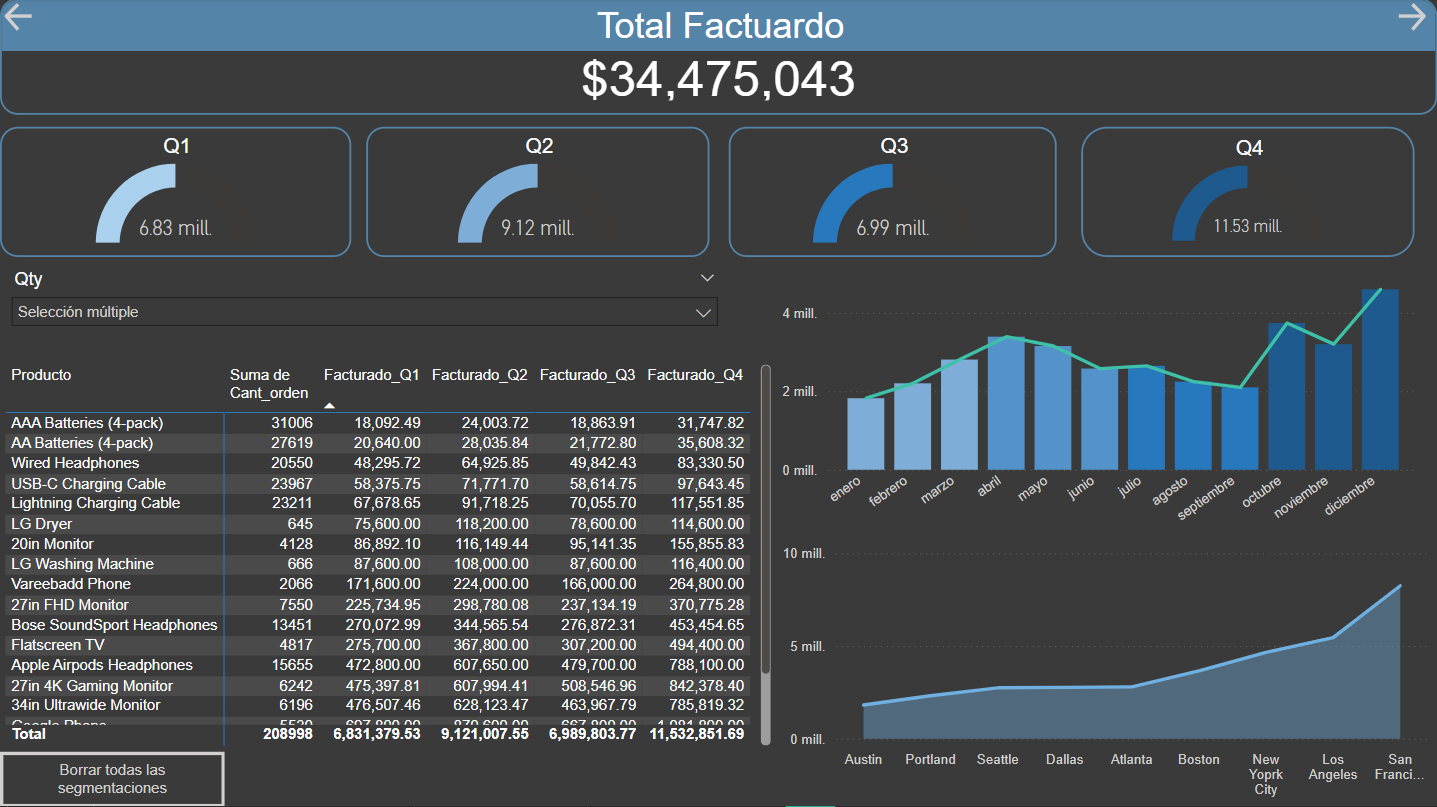

The dashboard page shown, as its layout file describes it:
{"tool":"powerbi","page":{"name":"Analisis_Facturacion","canvas":[1280,720],"ordinal":2},"visuals":[{"type":"card","title":"Total Factuardo","fields":{"Values":["Medidas.Ventas_Totales"]},"box":[0,0,1280,103.8],"z":0},{"type":"lineStackedColumnComboChart","fields":{"Y2":["Medidas.Ventas_Totales"],"Category":["Tabla_Calendario.Mes (nombre)"],"Y":["Medidas.Facturado_Q1","Medidas.Facturado_Q2","Medidas.Facturado_Q3","Medidas.Facturado_Q4"]},"box":[691.3,231.6,576.7,255.8],"z":1000},{"type":"gauge","title":"Q1","fields":{"Y":["Medidas.Facturado_Q1"]},"box":[0,114.6,312.5,115.8],"z":2000},{"type":"gauge","title":"Q2","fields":{"Y":["Medidas.Facturado_Q2"]},"box":[325.7,114.6,305.2,115.8],"z":3000},{"type":"gauge","title":"Q3","fields":{"Y":["Medidas.Facturado_Q3"]},"box":[649.1,114.6,292,115.8],"z":4000},{"type":"gauge","title":"Q4","fields":{"Y":["Medidas.Facturado_Q4"]},"box":[962.7,114.6,296.8,115.8],"z":5000},{"type":"actionButton","box":[0,0,33.8,33.8],"z":6000},{"type":"actionButton","box":[1240.2,0,39.8,33.8],"z":7000},{"type":"pivotTable","fields":{"Rows":["Orden_de_compra.Producto"],"Values":["Sum(Orden_de_compra.Cant_orden)","Medidas.Facturado_Q1","Medidas.Facturado_Q2","Medidas.Facturado_Q3","Medidas.Facturado_Q4"]},"box":[0,322.1,691.3,348.7],"z":8000},{"type":"actionButton","box":[0,670.8,200.3,49.5],"z":9000},{"type":"areaChart","fields":{"Category":["Ciudad.Nombre_ciudad"],"Y":["Sum(Orden_de_compra.Facturado)"]},"box":[691.3,481.4,588.7,238.9],"z":10000},{"type":"slicer","fields":{"Values":["Tabla_Calendario.Trimestre"]},"box":[0,236.5,649.1,85.7],"z":11000}]}

Visuals, with their boxes in screenshot pixels (x1, y1, x2, y2), scaled from the page's 1280x720 canvas onto the 1437x807 screenshot:
"Total Factuardo" card: 0/0/1436/116
lineStackedColumnComboChart - Medidas.Ventas_Totales x Tabla_Calendario.Mes (nombre): 776/260/1424/546
"Q1" gauge: 0/128/351/258
"Q2" gauge: 366/128/708/258
"Q3" gauge: 729/128/1057/258
"Q4" gauge: 1081/128/1414/258
actionButton: 0/0/38/38
actionButton: 1392/0/1436/38
pivotTable - Orden_de_compra.Producto x Sum(Orden_de_compra.Cant_orden): 0/361/776/752
actionButton: 0/752/225/806
areaChart - Ciudad.Nombre_ciudad x Sum(Orden_de_compra.Facturado): 776/540/1436/806
slicer - Tabla_Calendario.Trimestre: 0/265/729/361
